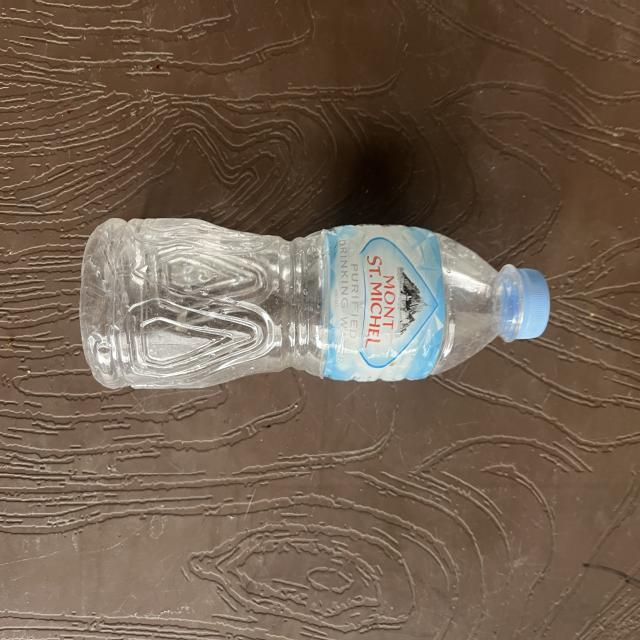REJECT: (83, 208, 531, 396)
